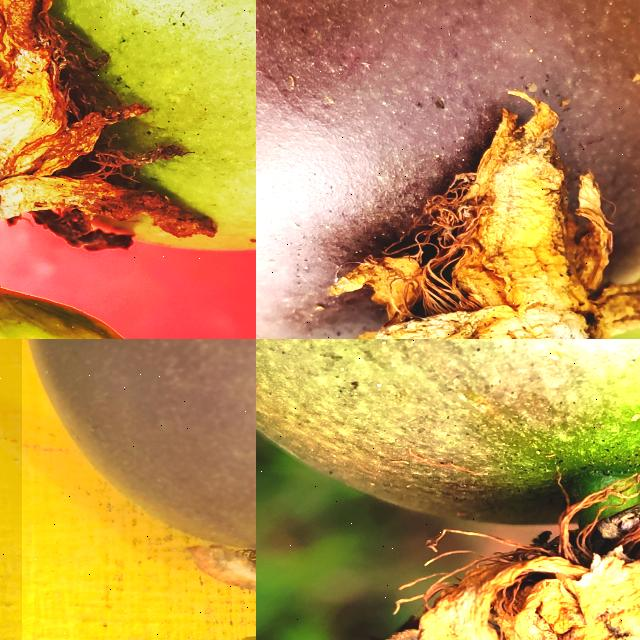Estado-2: (256, 339, 640, 640)
Estado-4: (29, 339, 256, 589)
